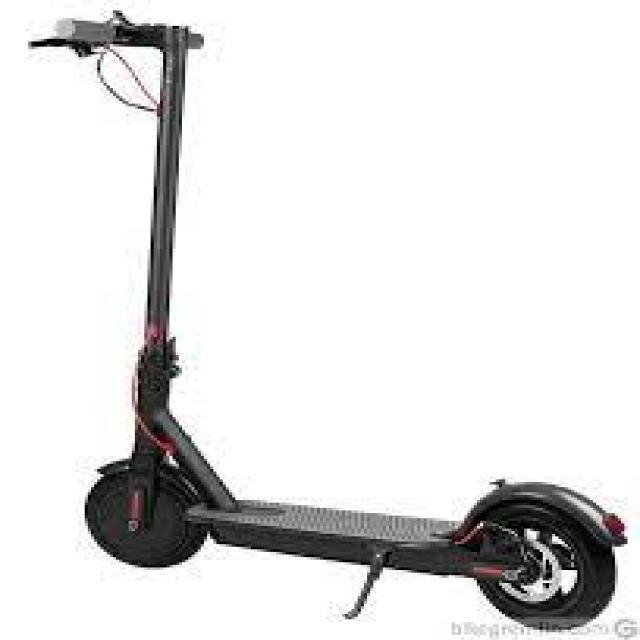bike: (80, 4, 640, 626)
car: (82, 3, 639, 632)
